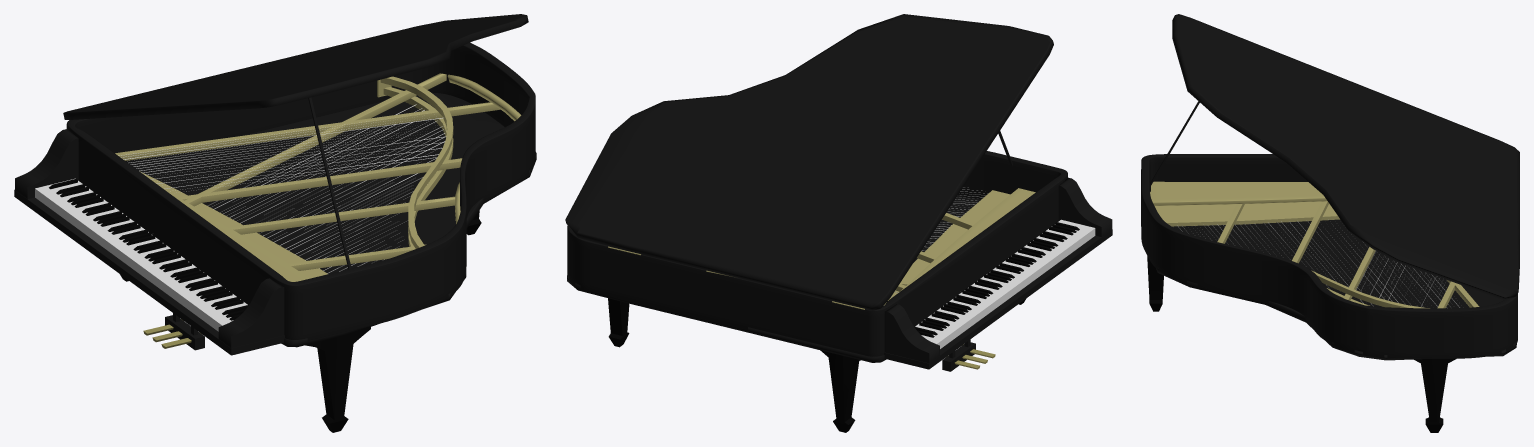
File: NewPiano.fbx
3 views of the same model, side by side, from view 1: azimuth 30°, elevation 25°; view 2: azimuth 150°, elevation 25°; view 3: azimuth 270°, elevation 25° (orthographic). The views are drawn at different scales.
Parts seen in each view (by area): view 1: polySurface167; view 2: polySurface167; view 3: polySurface167.
Boxes of the visible parts, x1,y1,x2,y2 form: polySurface167: (14, 14, 536, 432); polySurface167: (565, 14, 1112, 432); polySurface167: (1141, 14, 1519, 432).
Bounding box in the file's own units: 300 × 217 × 269.
